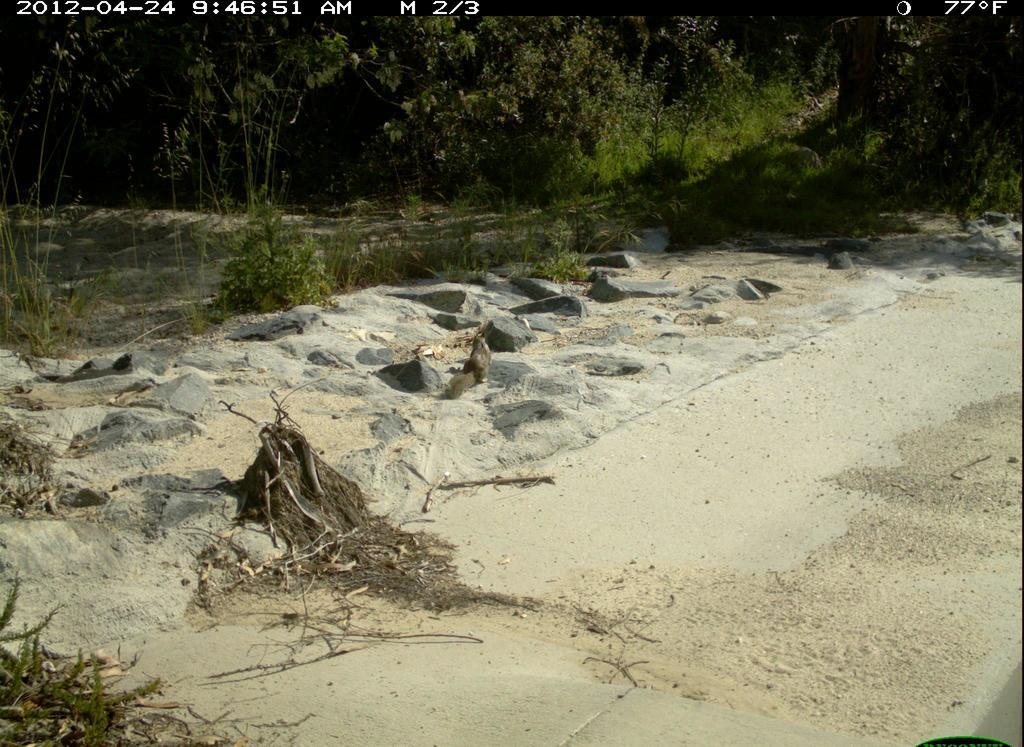squirrel: (438, 321, 495, 405)
